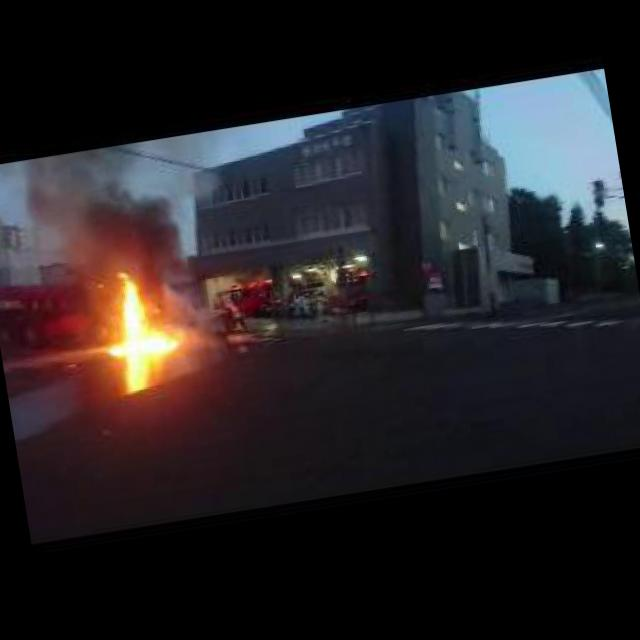fire: (96, 267, 177, 365)
smoke: (0, 137, 192, 291)
